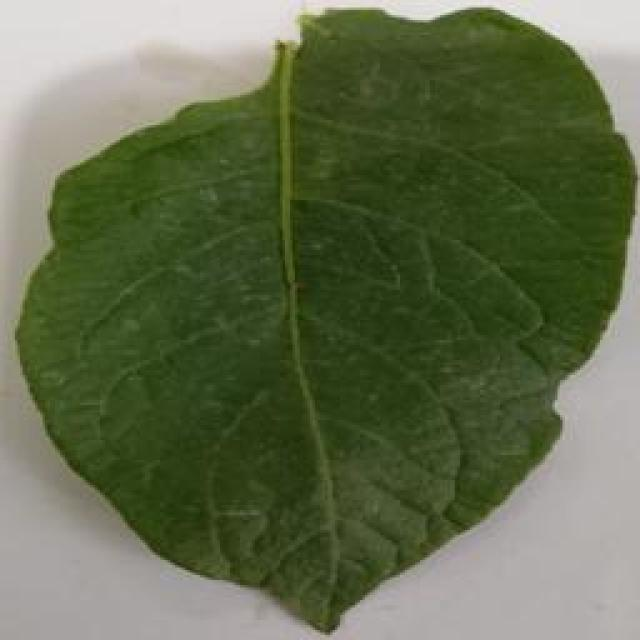Potato_Healthy: (17, 9, 626, 633)
